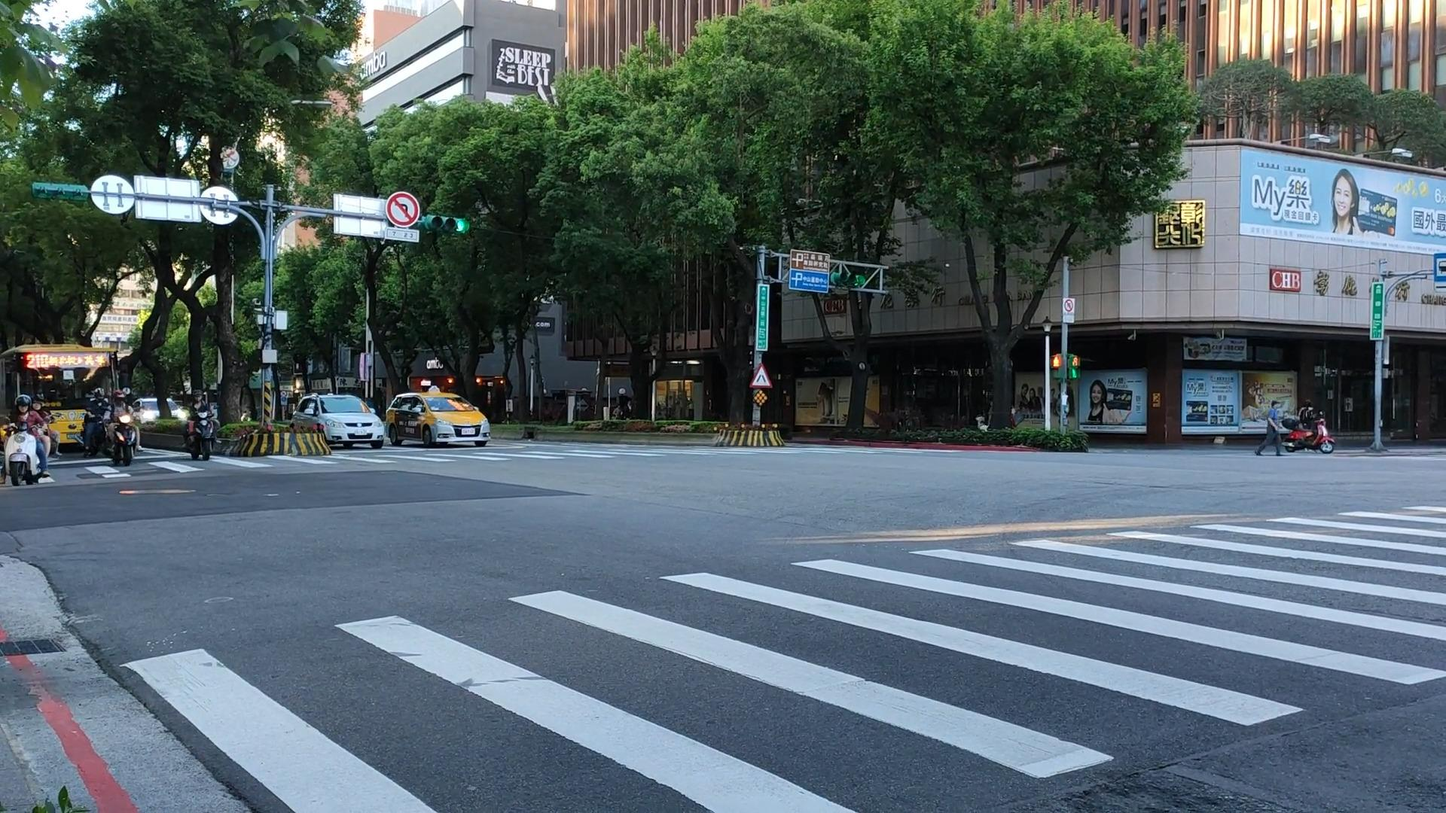driver: (0, 394, 56, 486)
